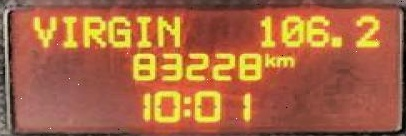-: (328, 33, 343, 49)
0: (150, 89, 180, 123), (191, 89, 220, 123), (278, 12, 303, 47)
1: (256, 11, 275, 46), (238, 90, 251, 124), (140, 90, 150, 122)
2: (351, 14, 381, 48), (210, 51, 235, 80), (184, 51, 208, 81)
3: (158, 51, 181, 80)
6: (305, 12, 330, 46)
8: (130, 51, 155, 80), (236, 51, 260, 80)
X: (28, 11, 58, 48), (153, 11, 179, 47), (80, 12, 105, 47), (104, 14, 128, 49), (58, 11, 76, 51), (133, 14, 149, 48), (275, 54, 295, 68), (181, 92, 190, 117), (261, 51, 275, 67)
